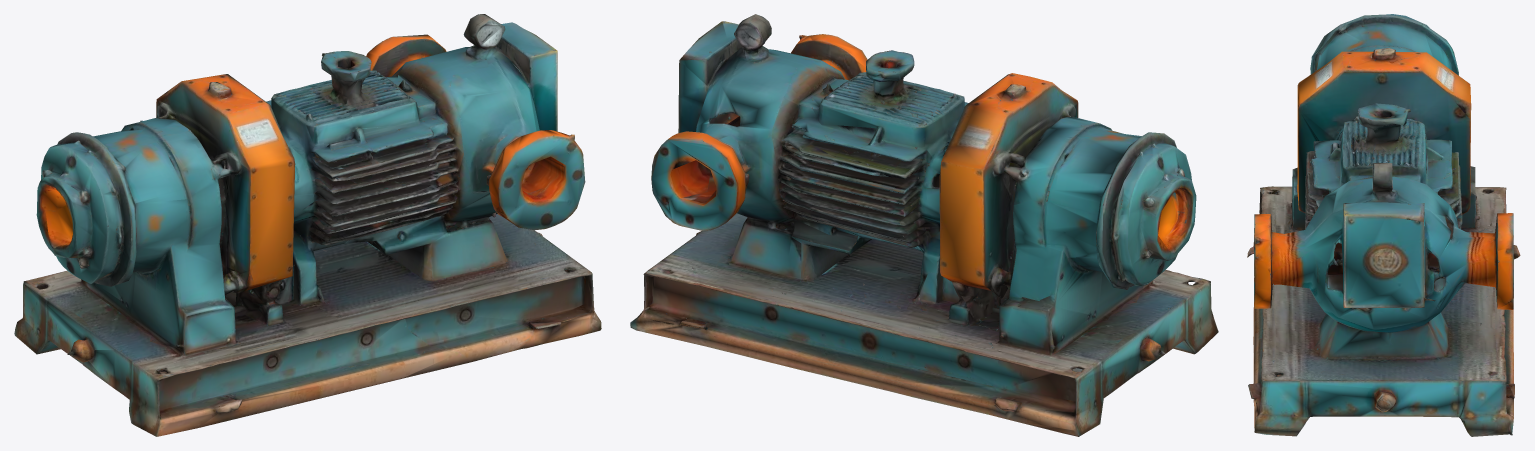
The model's file is p204-pump.glb.
The picture shows the model from 3 angles, left to right: view 1: azimuth 30°, elevation 25°; view 2: azimuth 150°, elevation 25°; view 3: azimuth 270°, elevation 25°; orthographic projection. The views are drawn at different scales.
Bounding box in the file's own units: 1.99 × 1.09 × 1.06.
1 material, 1 textured.
